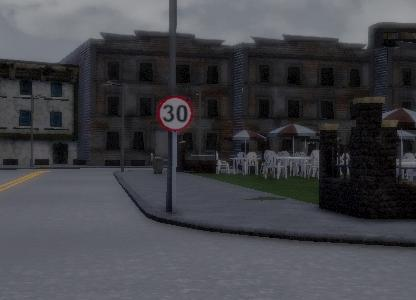Speed_30: (157, 94, 193, 132)
